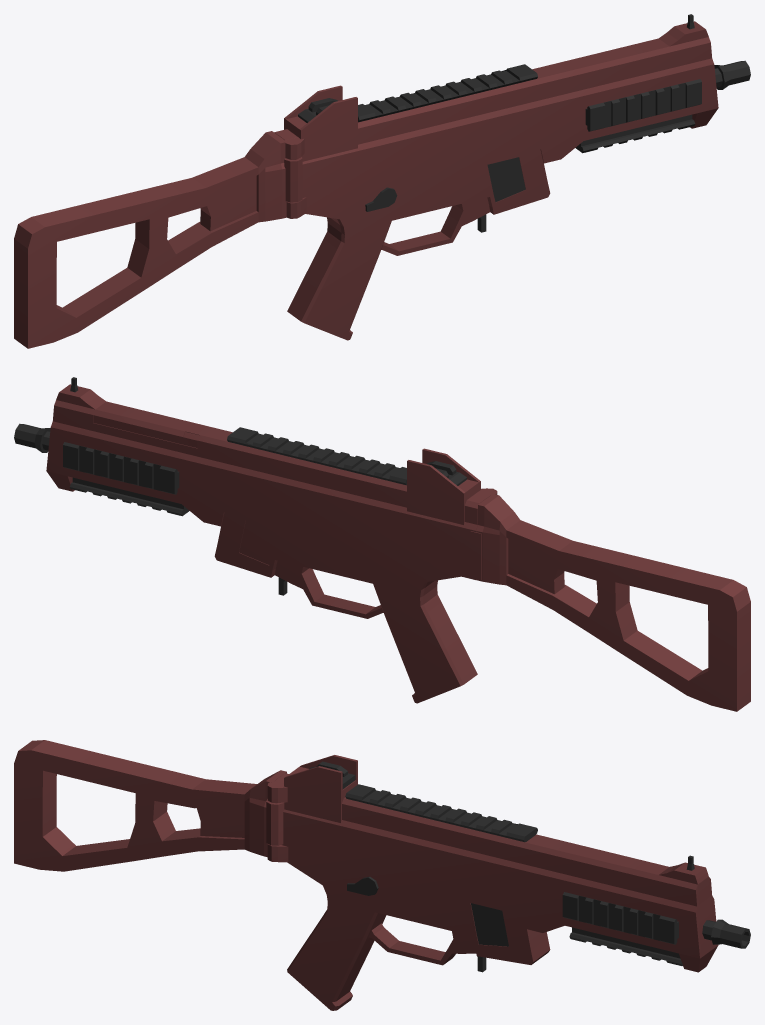
Rendered from SMG6_06.fbx.
The picture shows the model from 3 angles, top to bottom: view 1: azimuth 30°, elevation 25°; view 2: azimuth 150°, elevation 25°; view 3: azimuth 330°, elevation 25°; orthographic projection.
Visible parts, largest first — view 1: SMG6_06; view 2: SMG6_06; view 3: SMG6_06.
Boxes of the visible parts, x1,y1,x2,y2 form: SMG6_06: (14, 14, 750, 348); SMG6_06: (14, 377, 750, 711); SMG6_06: (14, 740, 750, 1010).
Bounding box in the file's own units: 0.7193 × 0.2278 × 0.0477.
